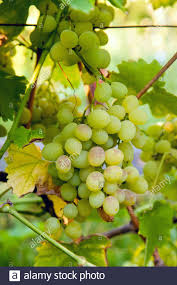grapes: (28, 87, 161, 224), (38, 8, 121, 78)
